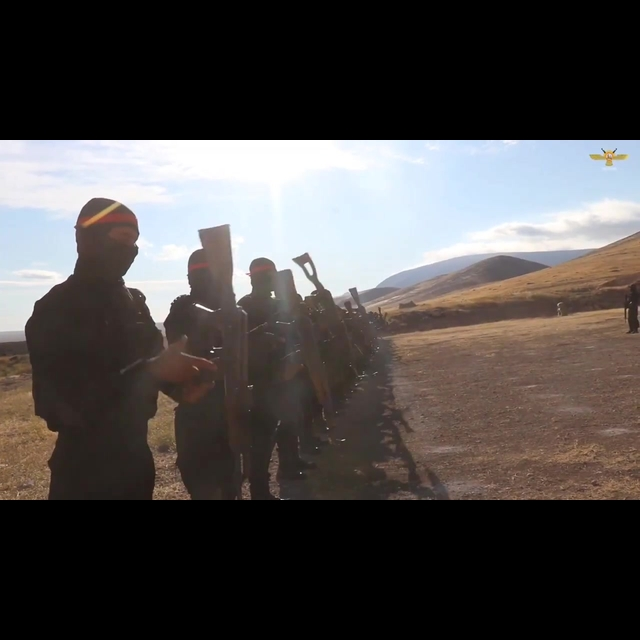AK47: (182, 222, 255, 500)
